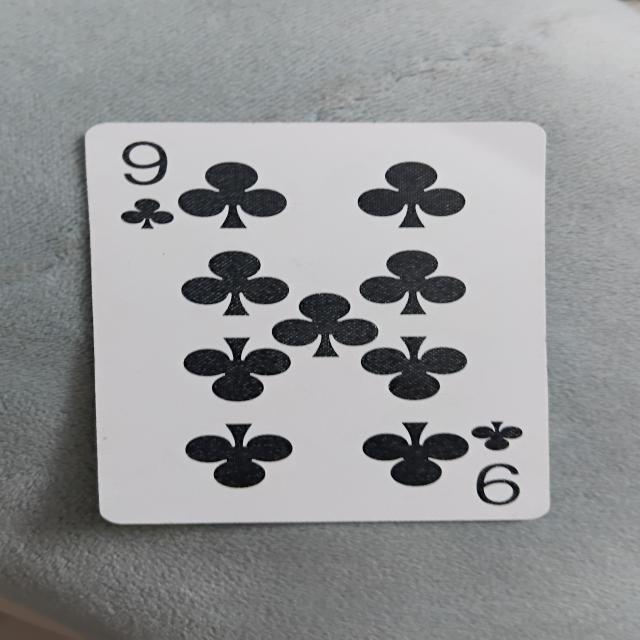9C: (81, 118, 557, 522)
